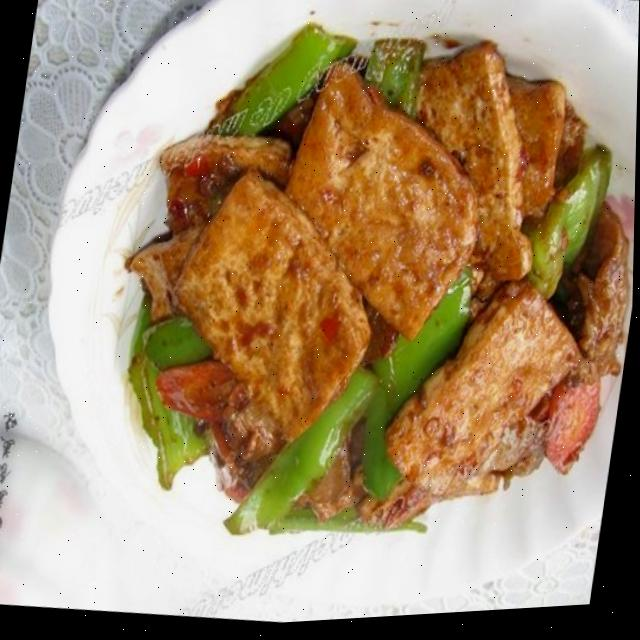豆腐料理: (47, 0, 640, 629)
